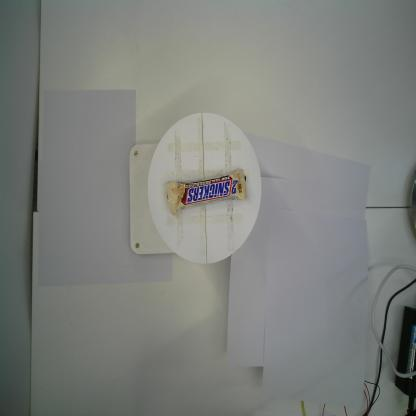Chocolate: (166, 168, 247, 216)
